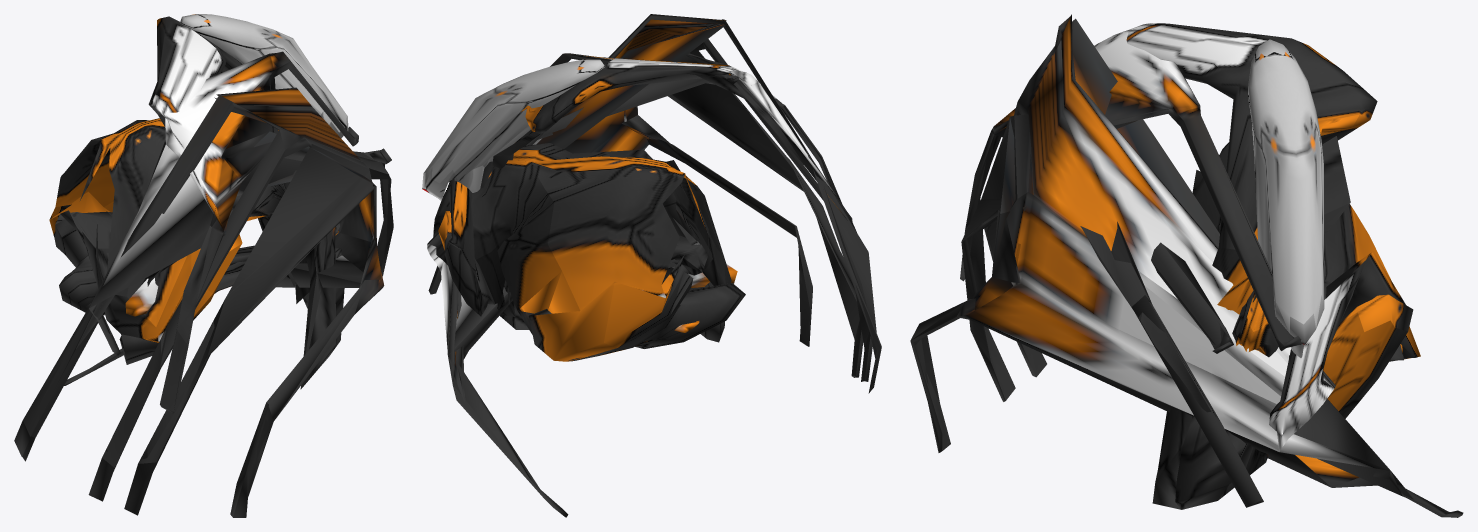
The model's file is skin_ninja.glb.
The picture shows the model from 3 angles, left to right: view 1: azimuth 30°, elevation 25°; view 2: azimuth 150°, elevation 25°; view 3: azimuth 270°, elevation 25°; orthographic projection. The views are drawn at different scales.
Visible parts, largest first — view 1: TorsoMesh, HeadMesh, ThighLMesh, UpperLMesh, ThighRMesh, ShinLMesh, ForeRMesh, UpperRMesh, PelvisMesh, ForeLMesh, ShinRMesh; view 2: TorsoMesh, HeadMesh, UpperRMesh, ThighLMesh, ThighRMesh, ForeRMesh, UpperLMesh, ShinRMesh, ShinLMesh, ForeLMesh, PelvisMesh; view 3: HeadMesh, ForeRMesh, UpperRMesh, ThighRMesh, TorsoMesh, ShinLMesh, ThighLMesh, ShinRMesh, UpperLMesh.
Part boxes in pixels (x1,y1,x2,y2): TorsoMesh: (55, 101, 374, 418); HeadMesh: (130, 14, 388, 236); ThighLMesh: (23, 191, 269, 471); UpperLMesh: (55, 95, 273, 367); ThighRMesh: (84, 192, 363, 421); ShinLMesh: (14, 404, 273, 517); ForeRMesh: (258, 118, 393, 386); UpperRMesh: (253, 111, 388, 314); PelvisMesh: (77, 211, 241, 326); ForeLMesh: (49, 204, 195, 363); ShinRMesh: (64, 291, 338, 386); TorsoMesh: (529, 39, 821, 310); HeadMesh: (424, 14, 804, 247); UpperRMesh: (427, 21, 684, 310); ThighLMesh: (602, 148, 881, 358); ThighRMesh: (441, 145, 796, 403); ForeRMesh: (422, 125, 648, 316); UpperLMesh: (672, 30, 849, 270); ShinRMesh: (453, 301, 568, 517); ShinLMesh: (795, 227, 881, 393); ForeLMesh: (661, 159, 855, 313); PelvisMesh: (663, 189, 712, 281); HeadMesh: (1000, 14, 1377, 387); ForeRMesh: (967, 196, 1407, 507); UpperRMesh: (956, 86, 1413, 403); ThighRMesh: (910, 302, 1420, 501); TorsoMesh: (912, 102, 1390, 339); ShinLMesh: (910, 326, 1046, 452); ThighLMesh: (914, 196, 996, 402); ShinRMesh: (1152, 445, 1463, 517); UpperLMesh: (965, 108, 1017, 232).
Bounding box in the file's own units: 2.03 × 1.93 × 1.93.
7 materials, 6 textured.
